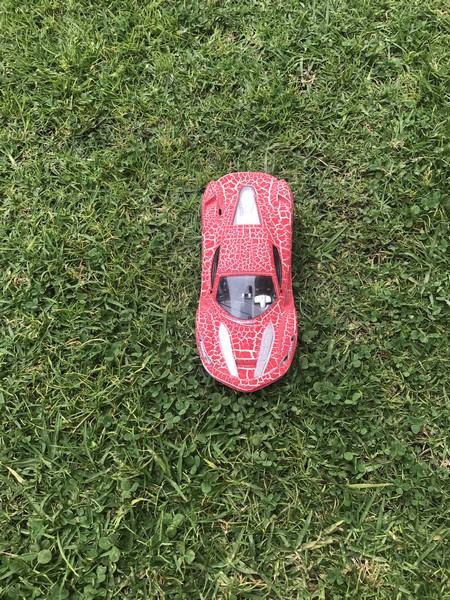RC: (191, 174, 300, 394)
